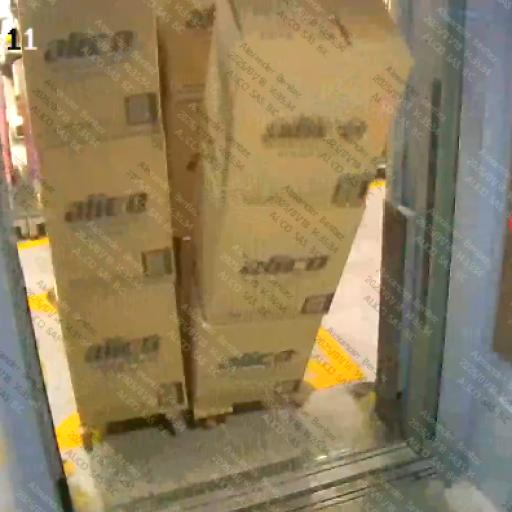Caja caida: (180, 6, 420, 421)
